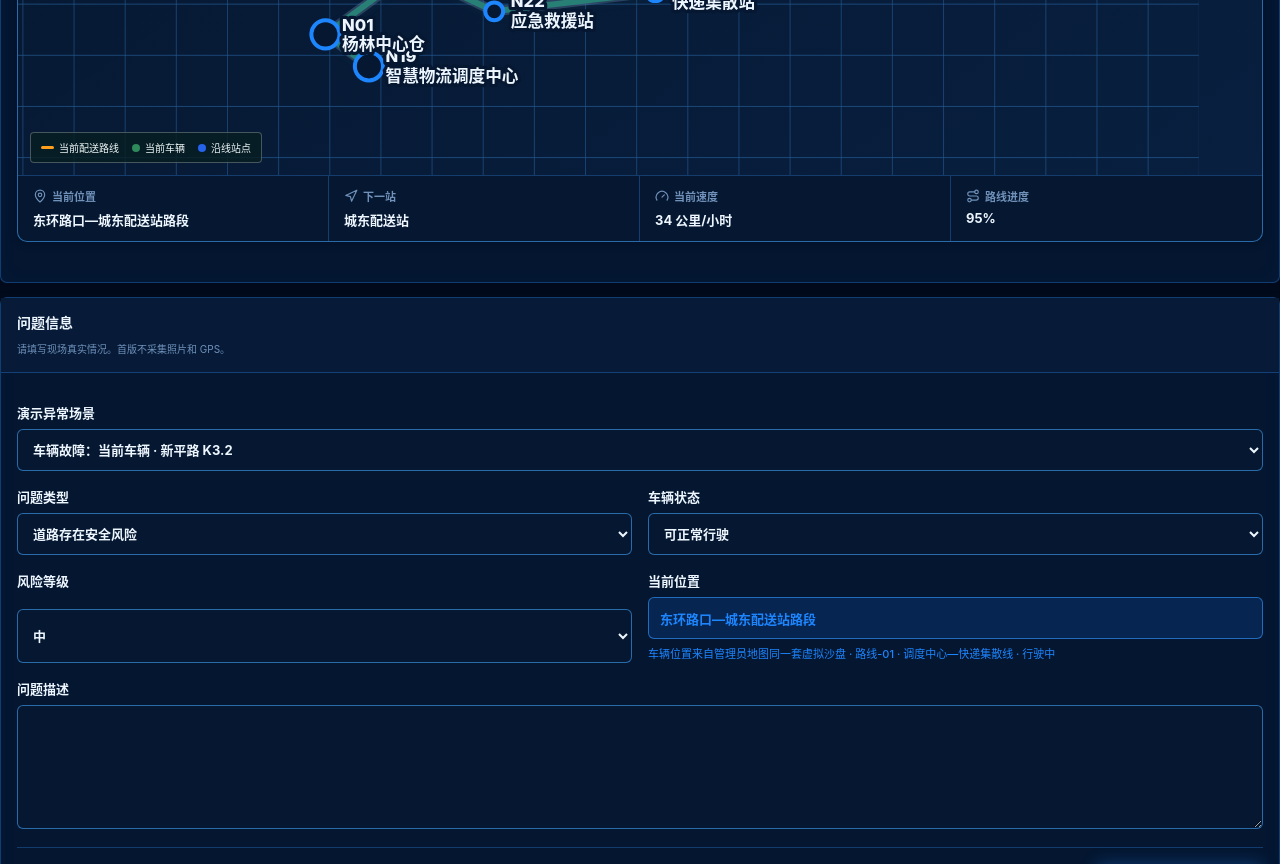
it: report issue page › applies the fixed vehicle-breakdown scenario and submits its node id
(page scrolled)
Step 1. Select "车辆故障：当前车辆 · 新平路 K3.2" in the dropdown labelled "演示异常场景" → (640, 450), box x1=17 y1=429 x2=1263 y2=471
(page scrolled)
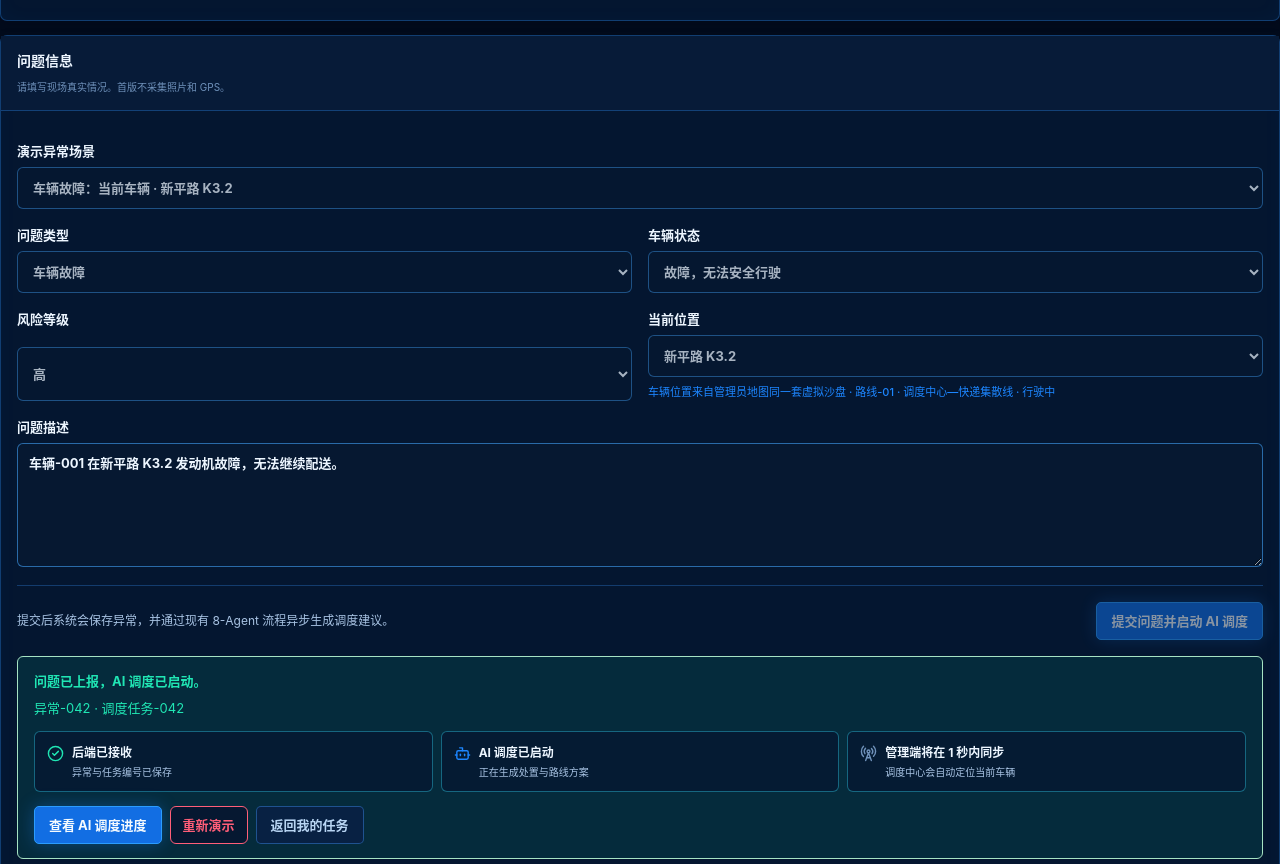
Expected: the dropdown with id "report-location" shows "新平路 K3.2", x1=648 y1=335 x2=1263 y2=377
Expected: the text box labelled "问题描述" holds "车辆-001 在新平路 K3.2 发动机故障，无法继续配送。", x1=17 y1=443 x2=1263 y2=567
